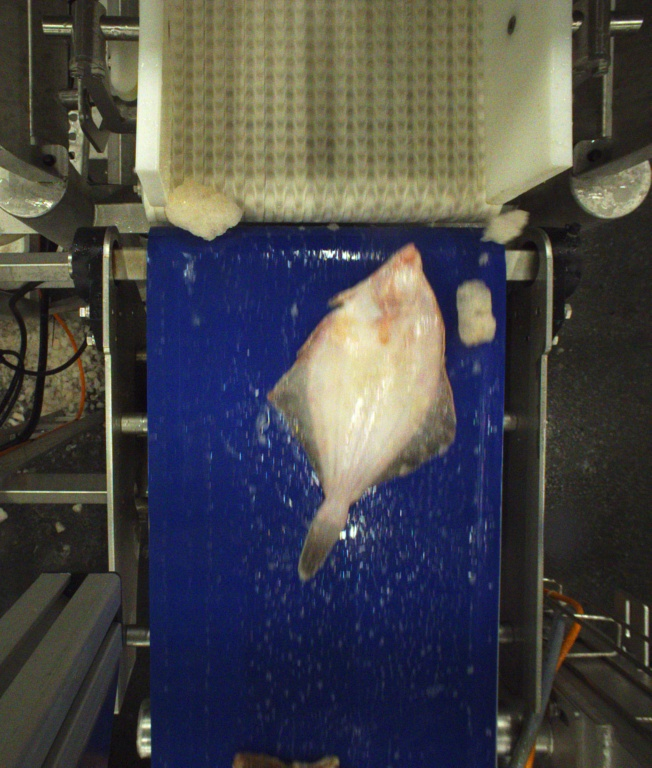PLE: (269, 243, 457, 584)
